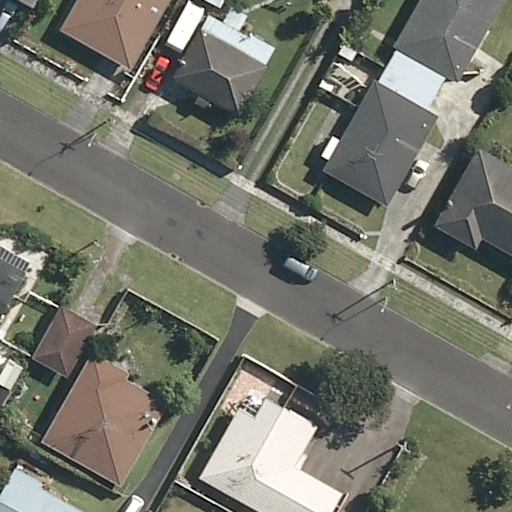DT: (100, 114, 121, 139), (386, 276, 403, 296)
